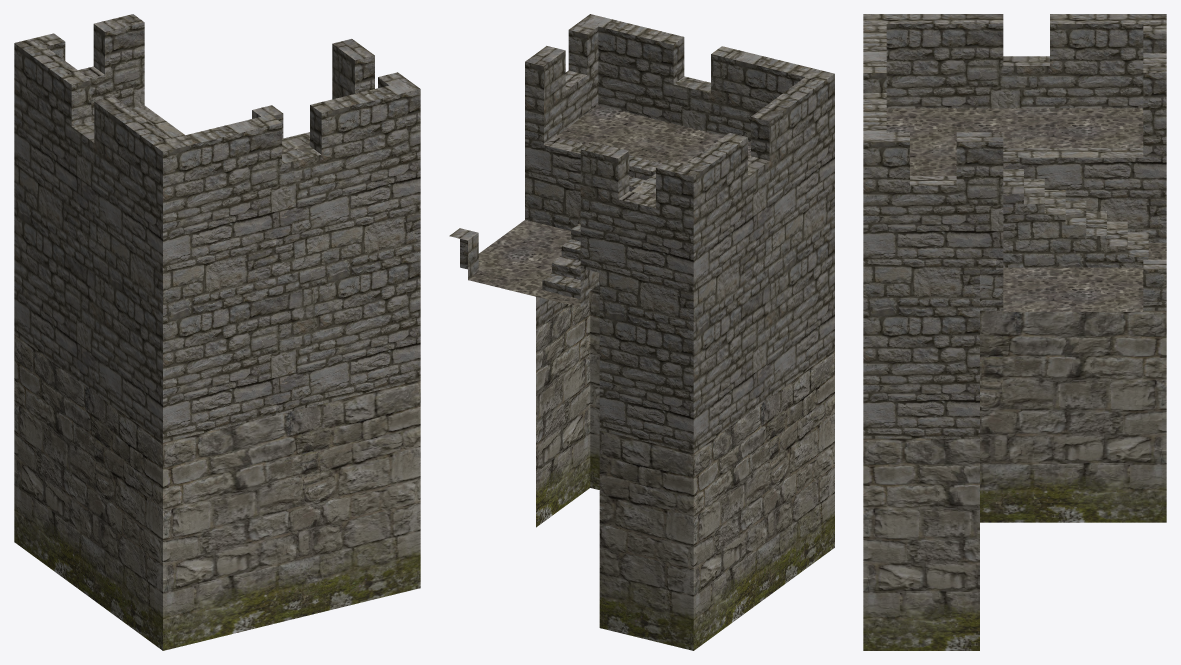
Rendered from poorlords_wall_corner_elevated.FBX.
3 views of the same model, side by side, from view 1: azimuth 30°, elevation 25°; view 2: azimuth 150°, elevation 25°; view 3: azimuth 270°, elevation 25° (orthographic). The views are drawn at different scales.
Visible parts, largest first — view 1: Poorlords_wall_corner_elevated_; view 2: Poorlords_wall_corner_elevated_; view 3: Poorlords_wall_corner_elevated_.
Boxes of the visible parts, x1=… form: Poorlords_wall_corner_elevated_: x1=14, y1=14, x2=420, y2=650; Poorlords_wall_corner_elevated_: x1=449, y1=14, x2=834, y2=650; Poorlords_wall_corner_elevated_: x1=863, y1=14, x2=1166, y2=650.
Bounding box in the file's own units: 416 × 416 × 770.
